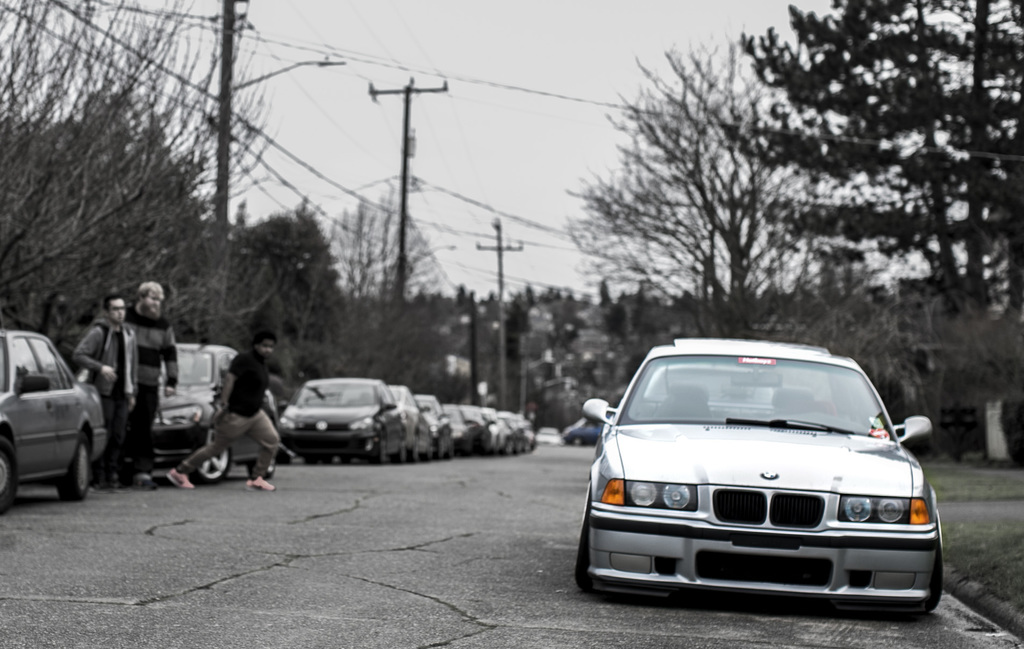Car: (0, 325, 561, 515), (567, 337, 950, 613), (279, 371, 533, 467), (146, 336, 277, 485), (0, 334, 110, 488), (645, 362, 777, 412), (566, 413, 606, 444)
